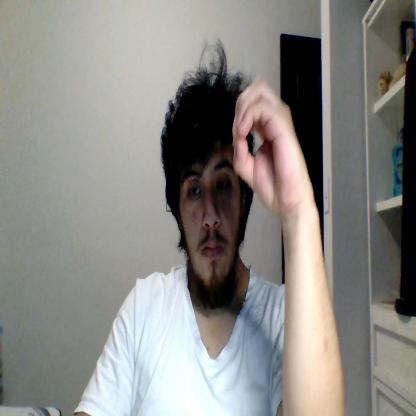O: (233, 80, 307, 215)
